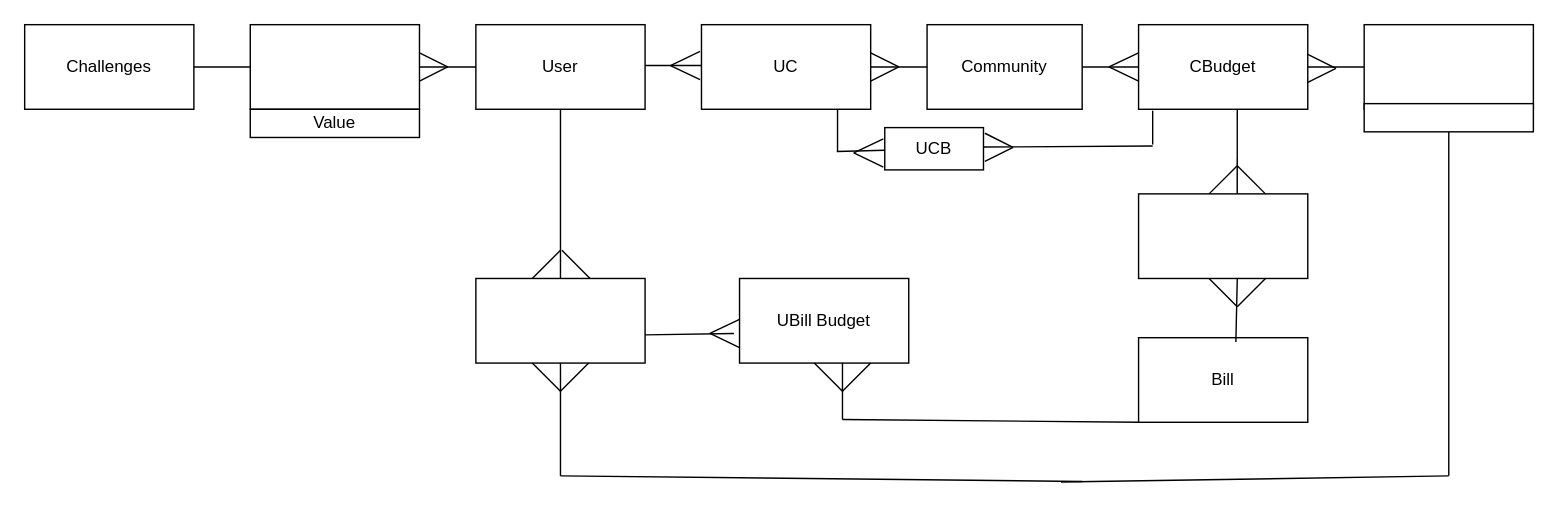
Image size: 1558x509. Some labels were removed from this diagram. Each missing label, with the box of its shape:
Bill Categ.: (1363, 23, 1533, 109)
C Bill Budget: (1137, 192, 1308, 278)
Categories: (1363, 102, 1533, 132)
CU: (249, 23, 419, 109)
UBudget: (474, 277, 645, 363)
